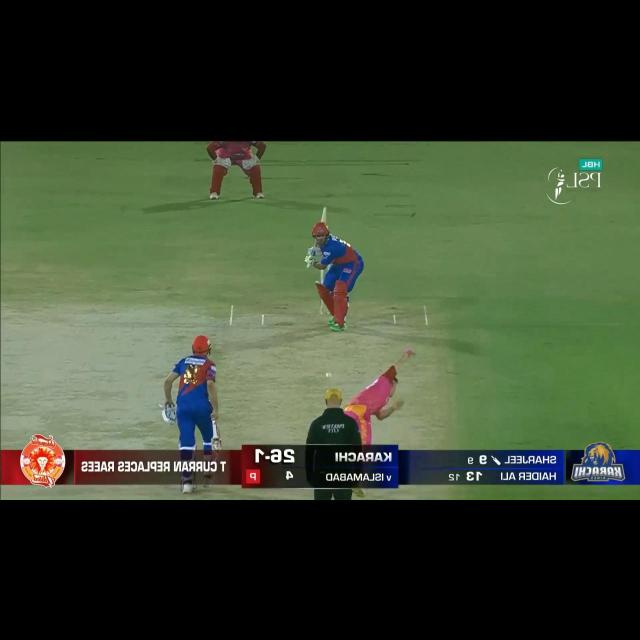bat: (303, 206, 330, 281), (207, 421, 223, 452)
toe: (319, 208, 329, 225)
